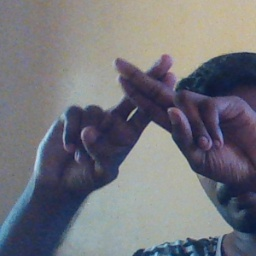F: (86, 46, 217, 161)
